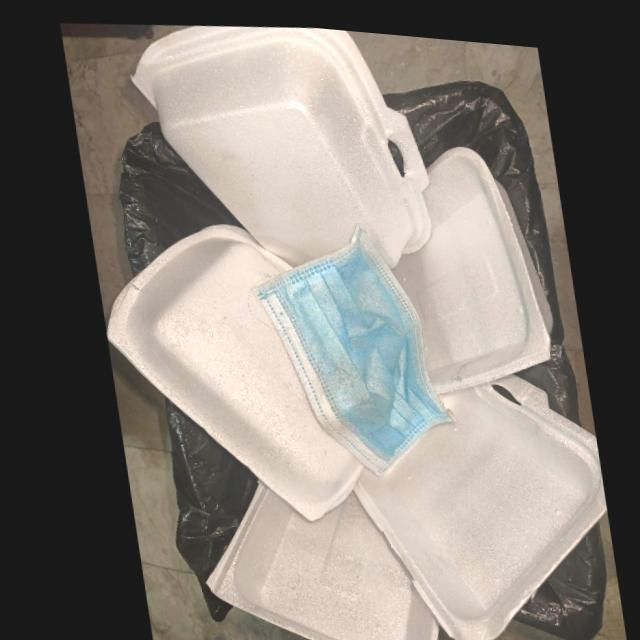styrofoam: (100, 217, 357, 515), (131, 22, 428, 261), (344, 363, 599, 640), (388, 135, 550, 387), (196, 476, 429, 640)
